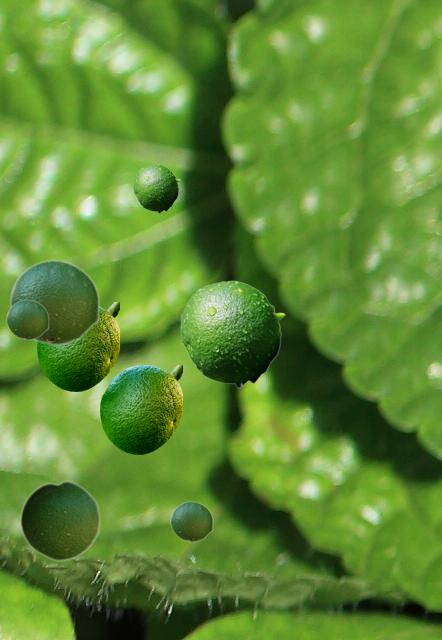dalandan: (180, 280, 284, 387), (9, 259, 99, 345), (37, 302, 118, 390), (100, 365, 181, 453), (19, 479, 100, 561), (133, 164, 179, 212), (170, 501, 212, 541), (6, 299, 48, 339)
